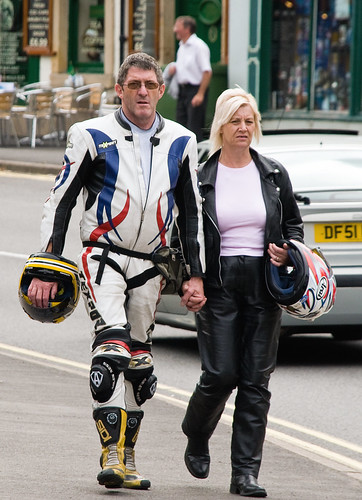helmet: (262, 237, 338, 318), (20, 246, 81, 326)
